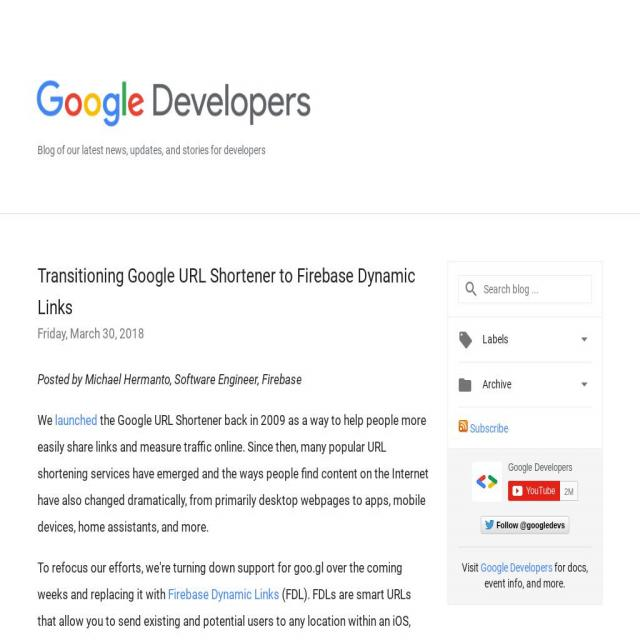button: (35, 78, 312, 131), (451, 320, 596, 357), (452, 367, 600, 402), (480, 516, 570, 535), (471, 461, 502, 501), (508, 481, 560, 502), (458, 420, 468, 432)
field: (458, 275, 592, 303), (560, 480, 578, 500)
